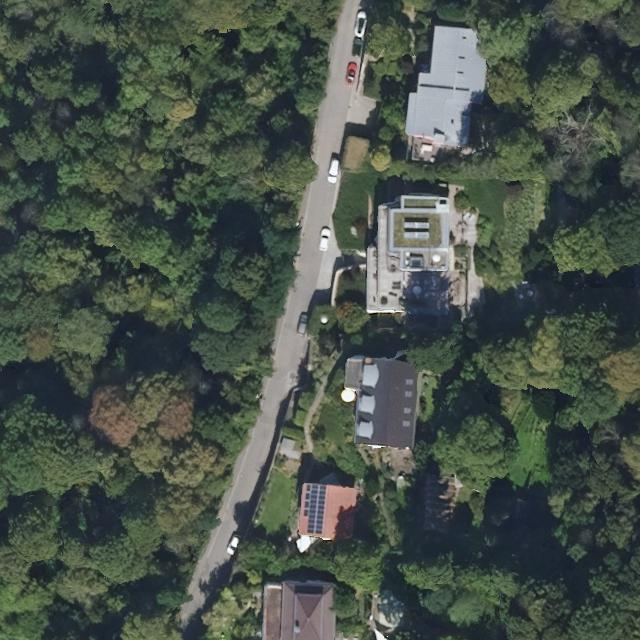PV: (303, 483, 326, 537)
